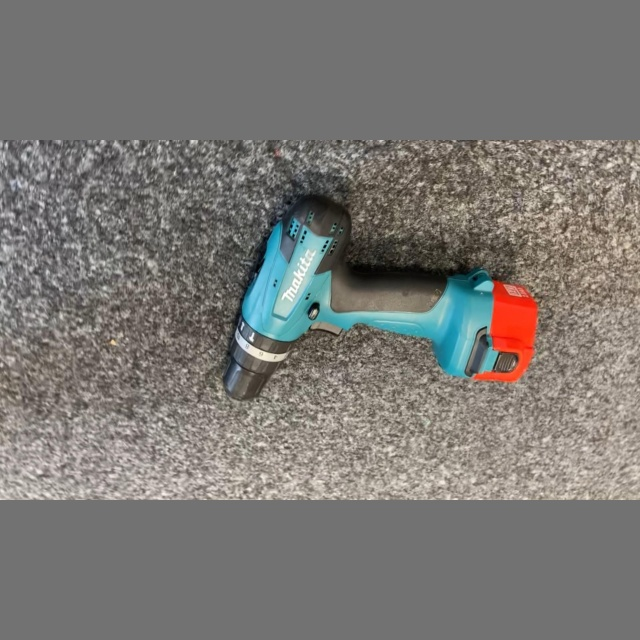drill: (216, 190, 546, 411)
